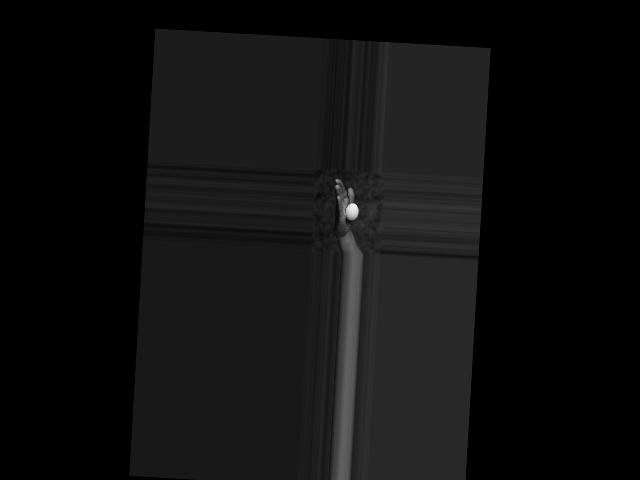egg: (344, 203, 359, 221)
